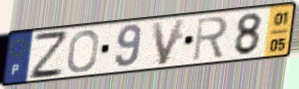8: (233, 12, 264, 57)
9: (114, 22, 144, 70)
O: (66, 29, 101, 75)
R: (191, 14, 230, 63)
V: (150, 17, 188, 67)
Z: (28, 31, 68, 82)
